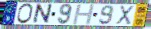9: (56, 3, 73, 26), (98, 5, 115, 26)
H: (71, 4, 96, 26)
N: (31, 4, 54, 26)
O: (16, 3, 34, 25)
X: (115, 5, 135, 26)
